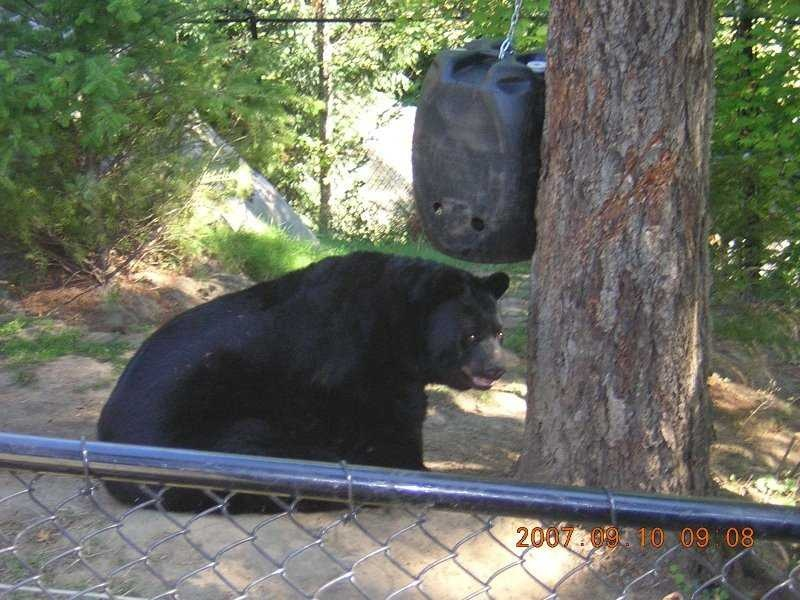bear: (396, 268, 524, 396)
